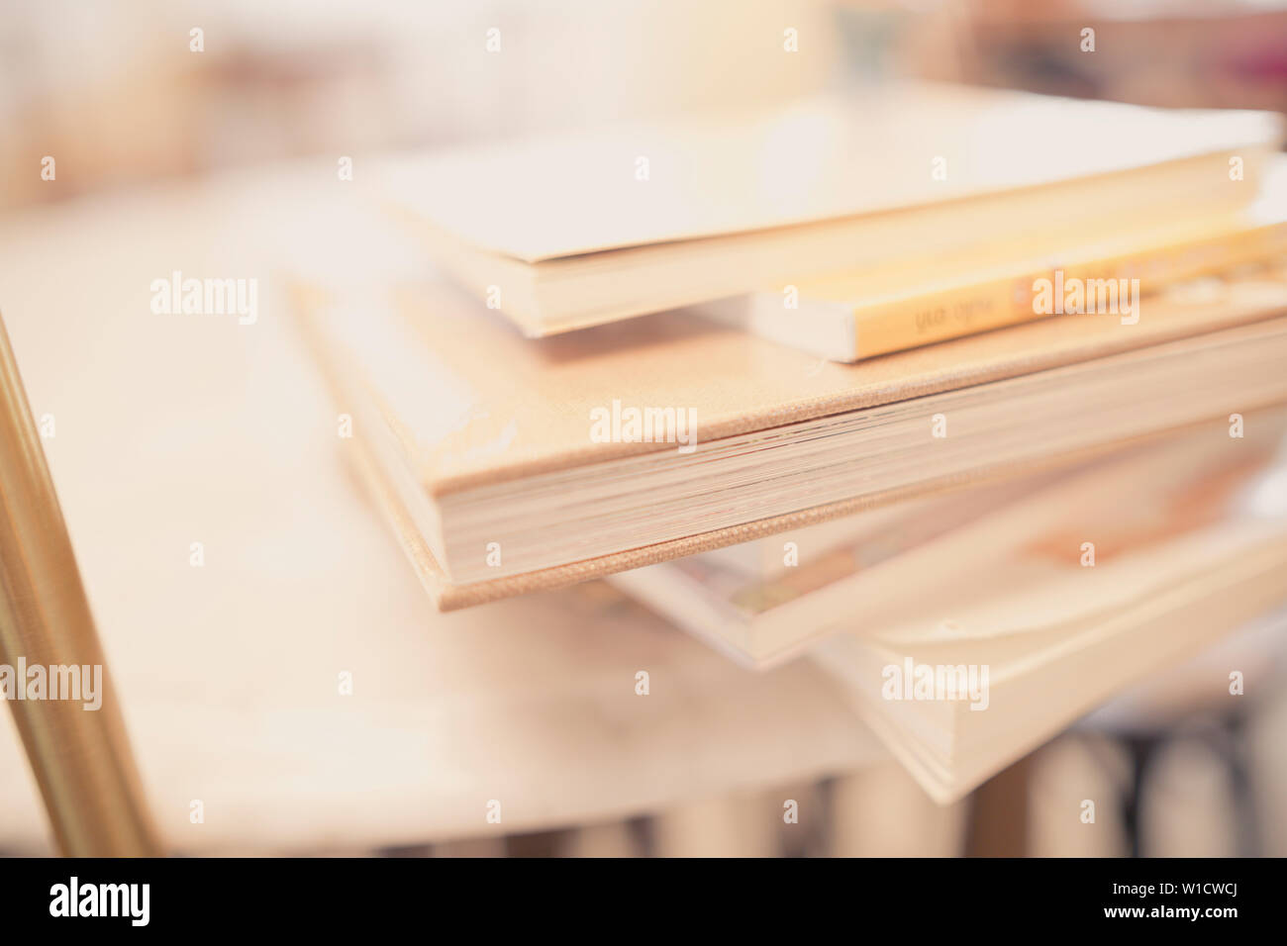not a gesture sign: (371, 84, 1286, 335)
